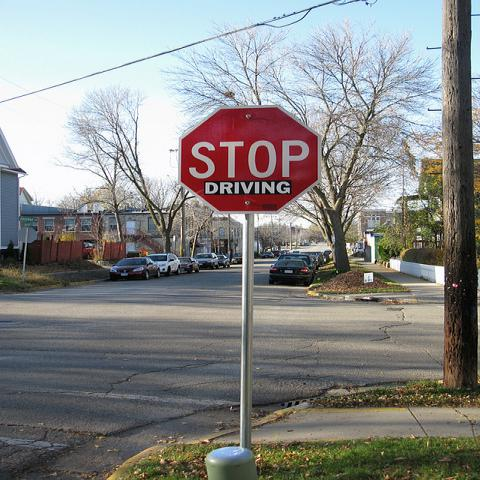car: (267, 258, 314, 286), (109, 257, 161, 282), (144, 252, 183, 277), (194, 252, 220, 269), (178, 256, 200, 273), (278, 254, 312, 265), (217, 255, 230, 268), (230, 252, 243, 265), (262, 252, 274, 259), (272, 250, 282, 257)
